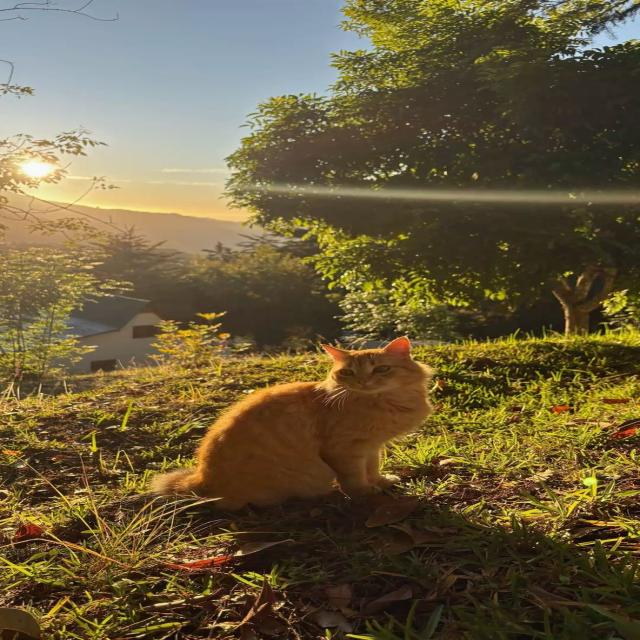sarman: (154, 330, 516, 552)
